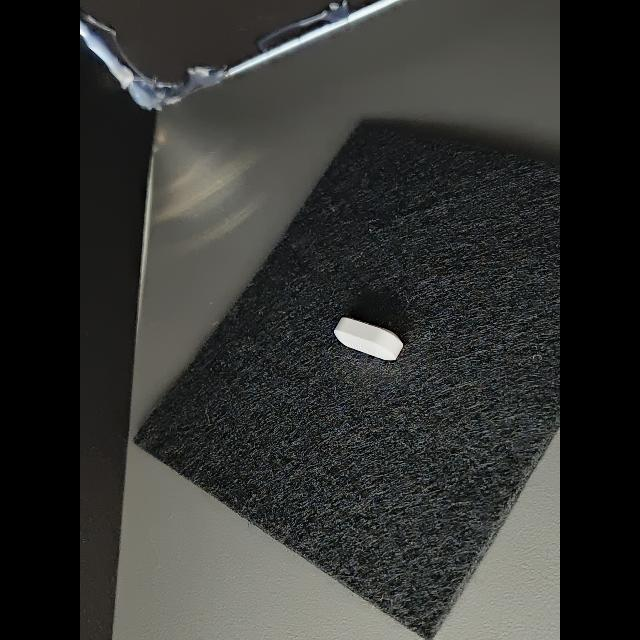Intact Pill: (334, 317, 403, 360)
